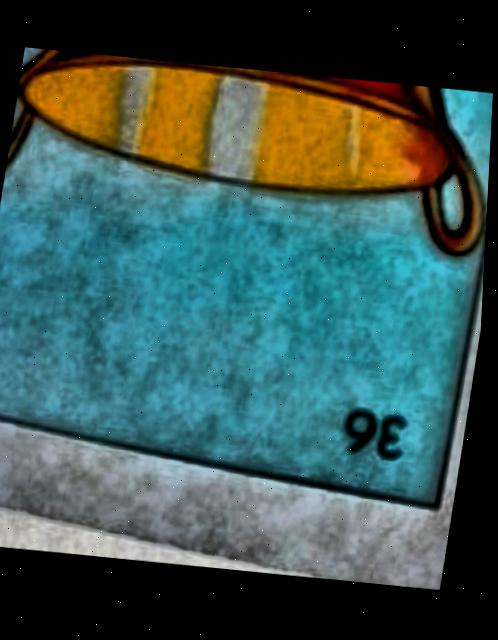El Cazo: (0, 51, 494, 517)
